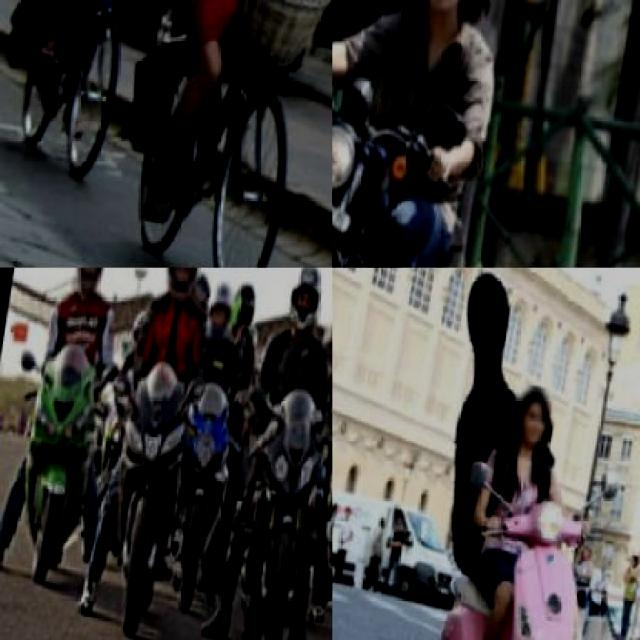With Helmet: (285, 268, 329, 329), (206, 274, 240, 344), (227, 268, 261, 334), (160, 268, 206, 295), (70, 268, 112, 295), (318, 305, 331, 366)
Without Helmet: (509, 377, 556, 451)
